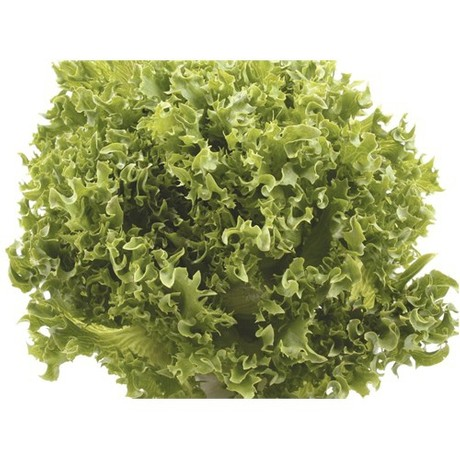Lettuce: (11, 56, 460, 406)
